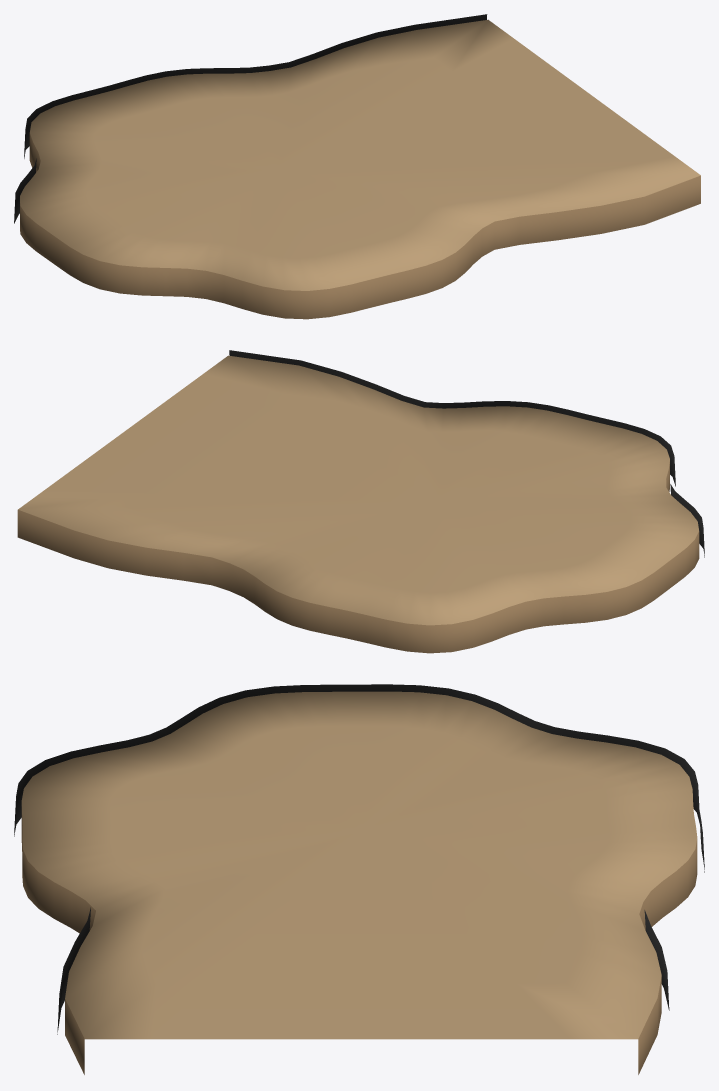
The model's file is td_pathtile5.fbx.
3 views of the same model, one above another, from view 1: azimuth 30°, elevation 25°; view 2: azimuth 150°, elevation 25°; view 3: azimuth 270°, elevation 25° (orthographic). The views are drawn at different scales.
Parts seen in each view (by area): view 1: Path_End; view 2: Path_End; view 3: Path_End.
Part boxes in pixels (x1,y1,x2,y2): Path_End: [14, 14, 700, 319]; Path_End: [17, 350, 704, 653]; Path_End: [14, 684, 704, 1074].
Size of the model in its own units: 174 by 11.7 by 145.
